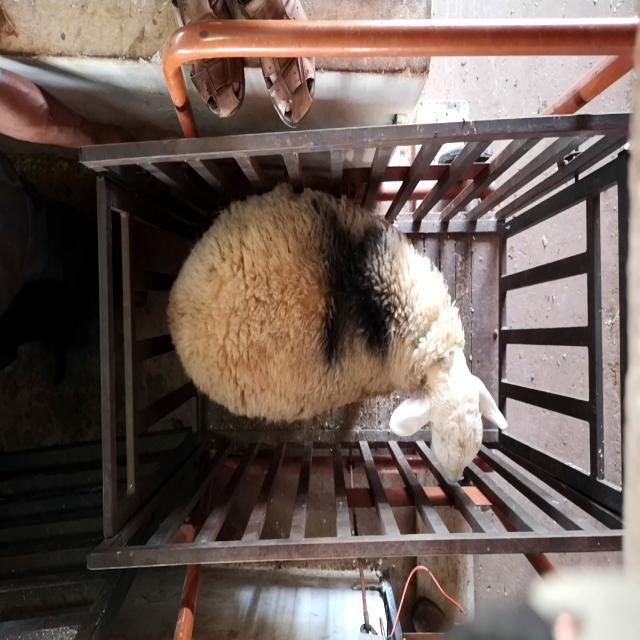sheep: (166, 184, 509, 483)
